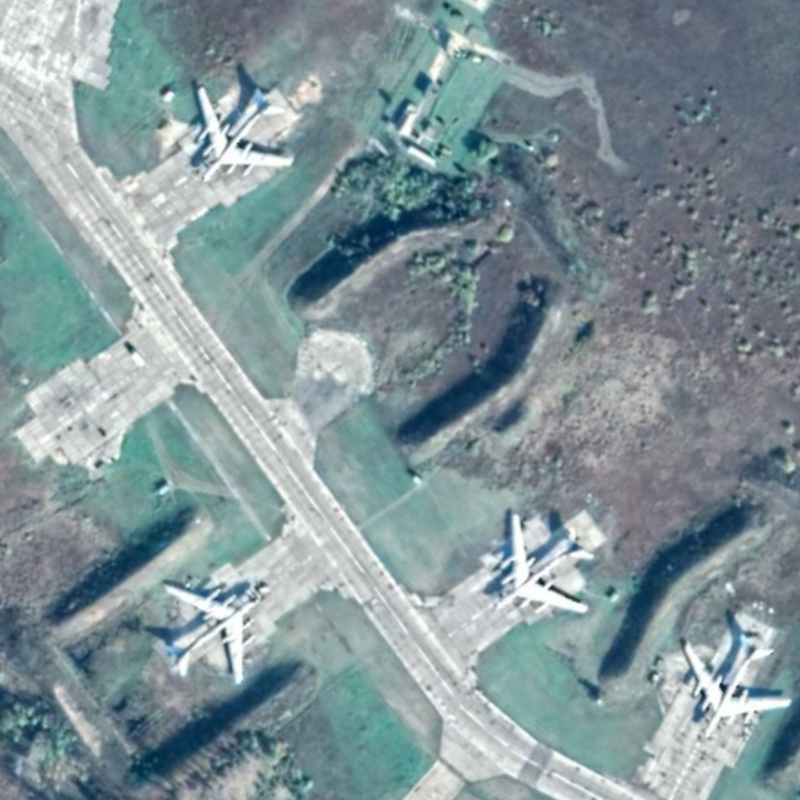A17: (680, 631, 794, 737), (492, 512, 596, 615), (163, 581, 262, 687), (193, 84, 297, 184)
